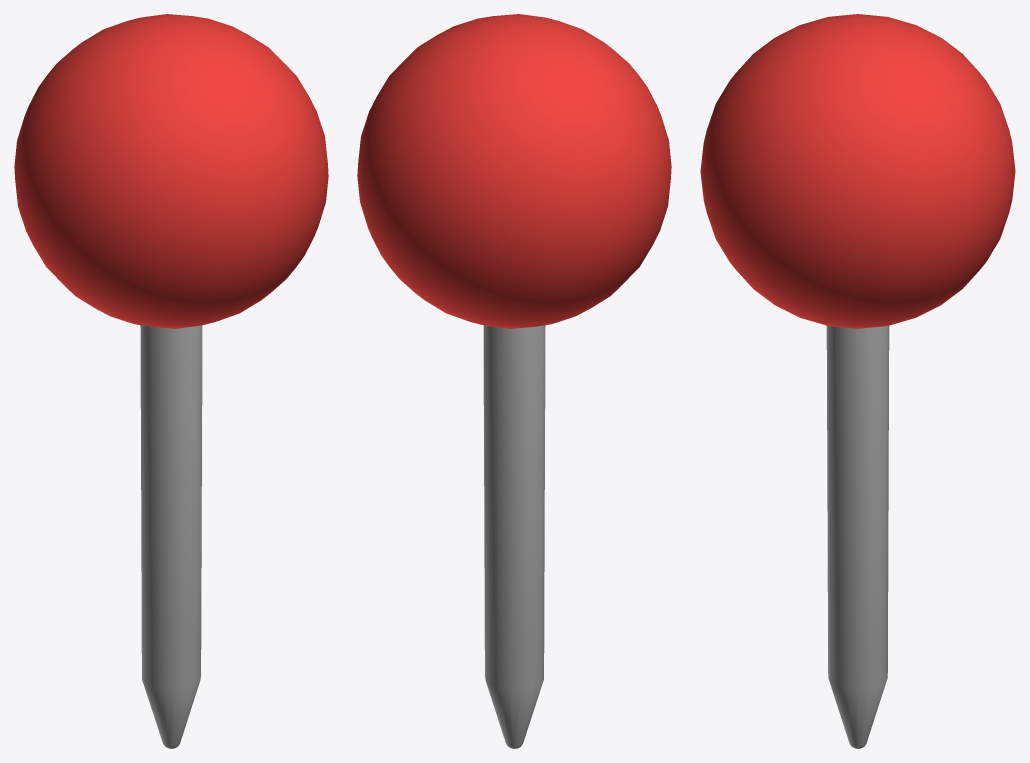
The model's file is round_pushpin.glb.
3 renders of one model, left to right at view 1: azimuth 30°, elevation 25°; view 2: azimuth 150°, elevation 25°; view 3: azimuth 270°, elevation 25°, orthographic.
Visible parts, largest first — view 1: Circle.2571; view 2: Circle.2571; view 3: Circle.2571.
Part boxes in pixels (x1,y1,x2,y2): Circle.2571: [14, 14, 328, 748]; Circle.2571: [357, 14, 671, 748]; Circle.2571: [700, 14, 1015, 748].
Bounding box in the file's own units: 0.9575 × 2.41 × 0.9575.
Materials: 1 (1 with a texture image).
